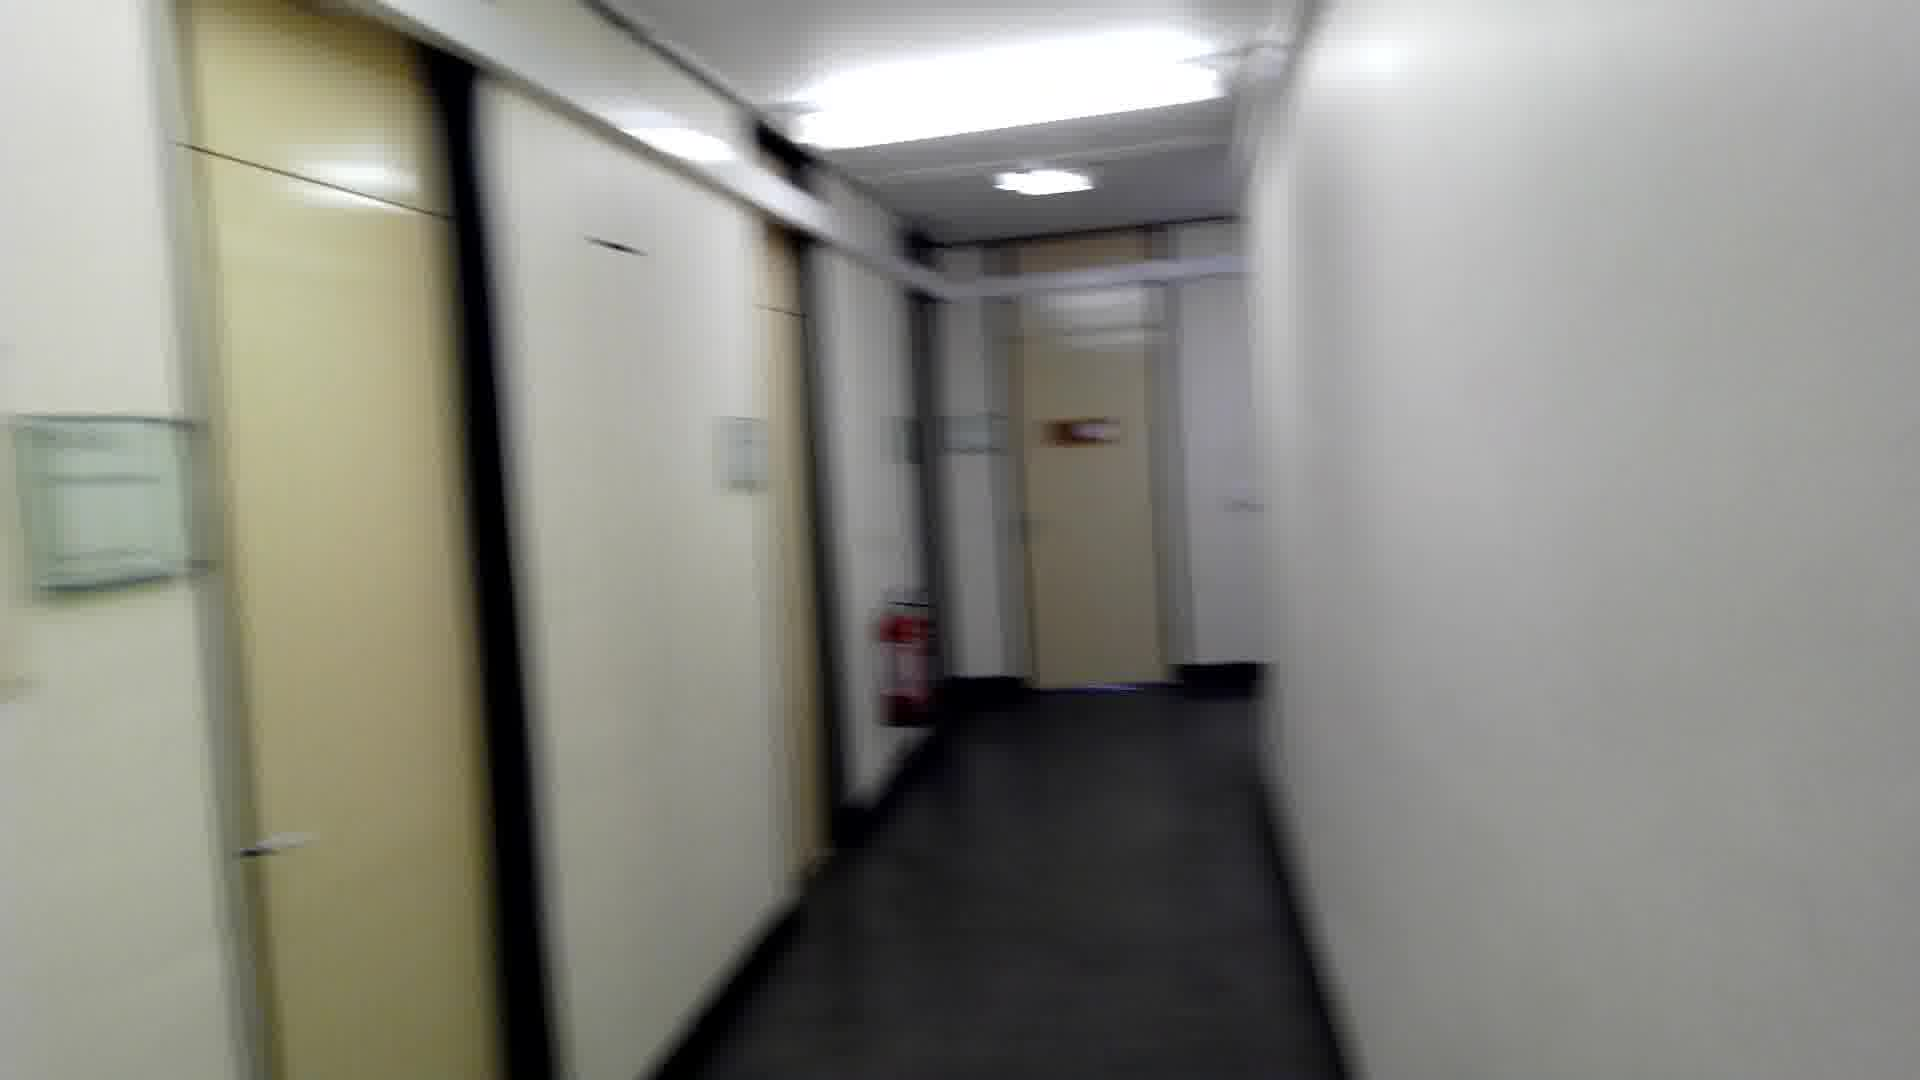Door: (154, 156, 530, 1080), (992, 305, 1187, 709), (741, 298, 843, 893)
